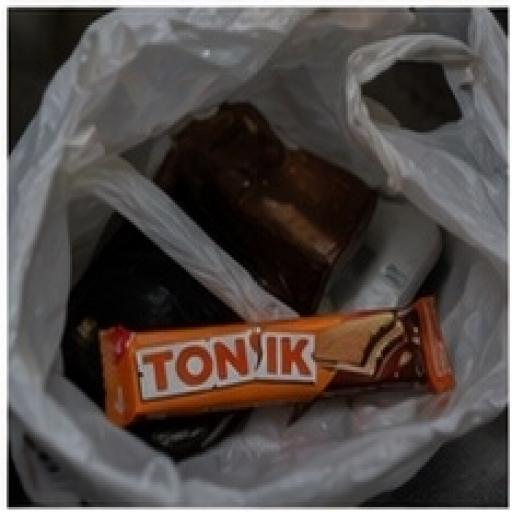tonik: (40, 179, 471, 480)
